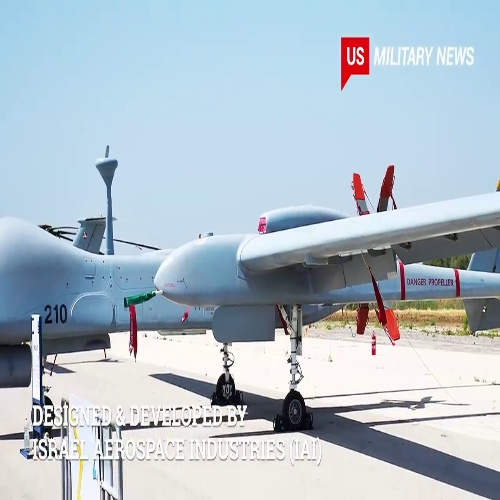uav499: (153, 179, 499, 439)
